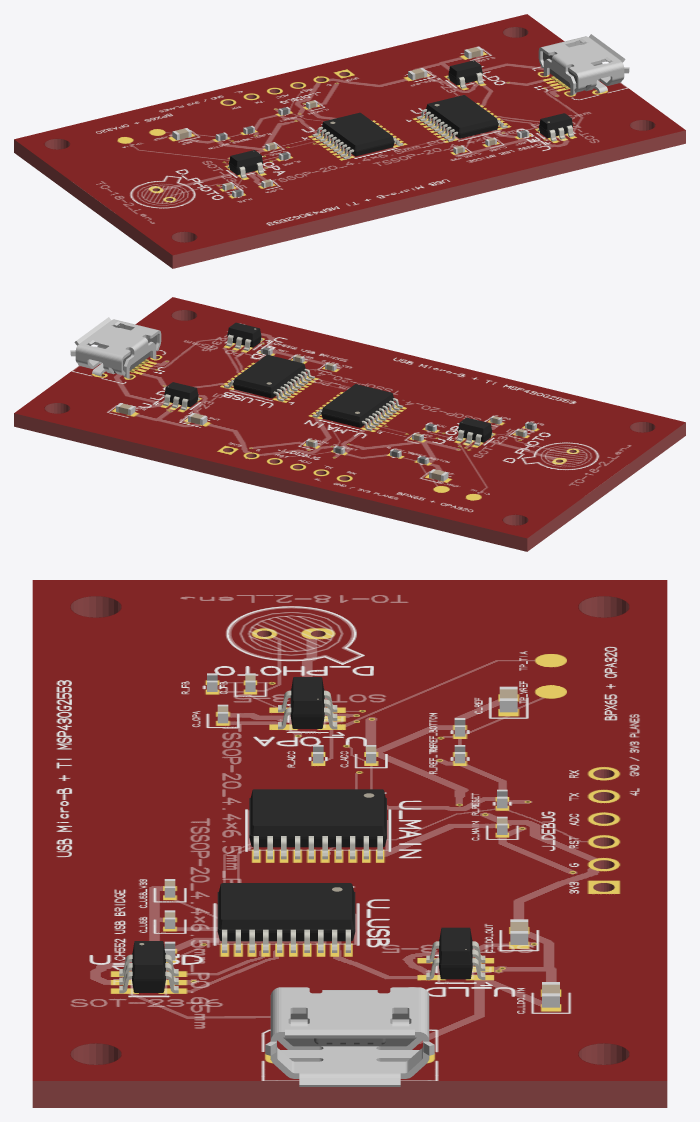
The picture shows the model from 3 angles, top to bottom: view 1: azimuth 30°, elevation 25°; view 2: azimuth 150°, elevation 25°; view 3: azimuth 270°, elevation 25°; orthographic projection. The views are drawn at different scales.
Visible parts, largest first — view 1: Box0, J1, U_USB, U_MAIN, U_ESD, U_LDO, U_OPA; view 2: Box0, J1, U_MAIN, U_USB, U_ESD, U_LDO, U_OPA; view 3: Box0, J1, U_MAIN, U_USB, U_ESD, U_LDO, U_OPA.
Boxes of the visible parts, bbox=[...] form: Box0: bbox=[14, 14, 685, 268]; J1: bbox=[538, 34, 629, 95]; U_USB: bbox=[416, 95, 507, 141]; U_MAIN: bbox=[312, 112, 403, 159]; U_ESD: bbox=[537, 113, 574, 141]; U_LDO: bbox=[447, 60, 483, 88]; U_OPA: bbox=[227, 150, 264, 178]; Box0: bbox=[14, 297, 685, 551]; J1: bbox=[70, 317, 161, 378]; U_MAIN: bbox=[312, 384, 403, 430]; U_USB: bbox=[224, 354, 314, 401]; U_ESD: bbox=[226, 322, 262, 350]; U_LDO: bbox=[163, 382, 199, 410]; U_OPA: bbox=[456, 417, 493, 445]; Box0: bbox=[32, 580, 667, 1107]; J1: bbox=[265, 987, 434, 1086]; U_MAIN: bbox=[249, 789, 386, 859]; U_USB: bbox=[217, 883, 355, 952]; U_ESD: bbox=[119, 941, 178, 993]; U_LDO: bbox=[426, 927, 485, 979]; U_OPA: bbox=[278, 677, 337, 729].
Bounding box in the file's own units: 56.29 × 4.13 × 30.
Materials: 13 (2 with a texture image).
